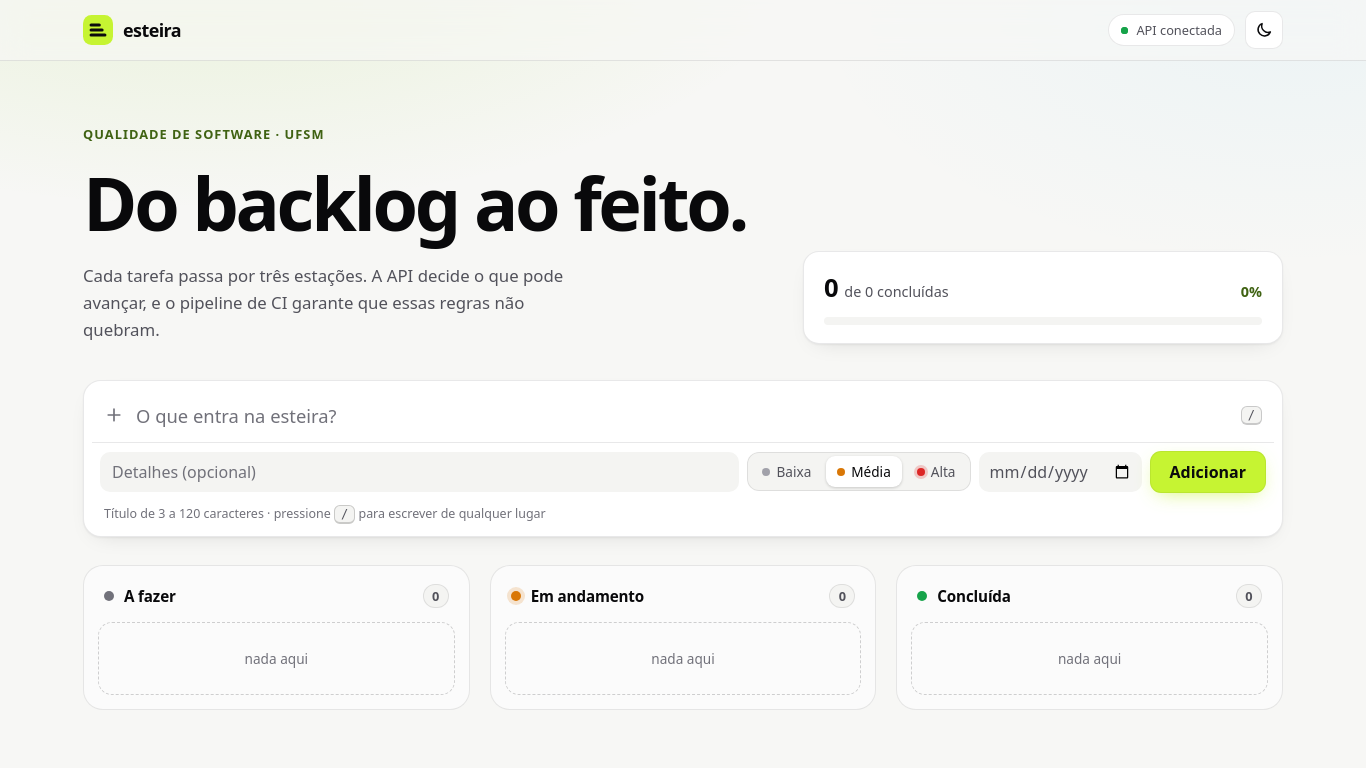
App › mostra o erro de validação da API e marca o campo inválido (RN01)
Type "ab" into the field named "Título".
click(682, 415); type("ab")  # box x1=136 y1=397 x2=1229 y2=434
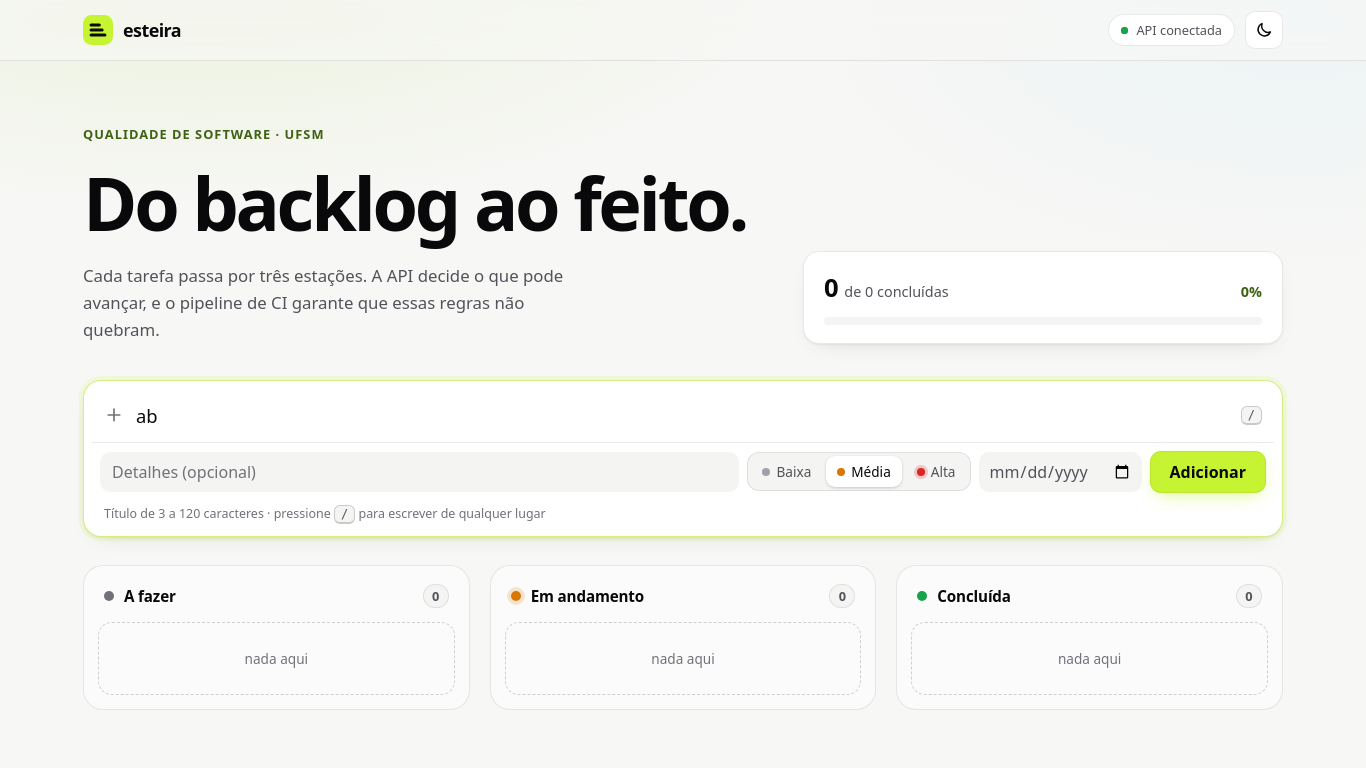
Click the button "Adicionar".
click(1208, 472)  # box x1=1150 y1=451 x2=1266 y2=493
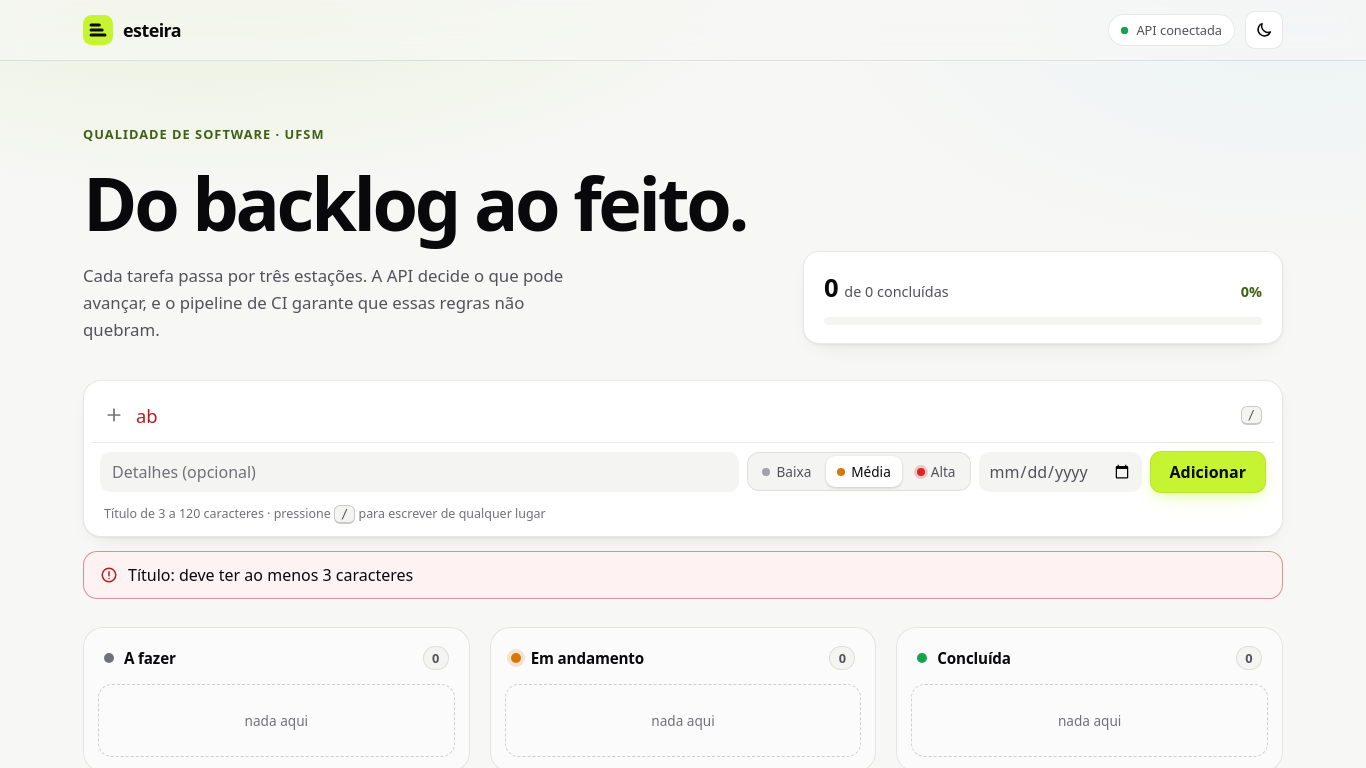
expect the message reads "Título: deve ter ao menos 3 caracteres": met, box x1=128 y1=564 x2=413 y2=586
